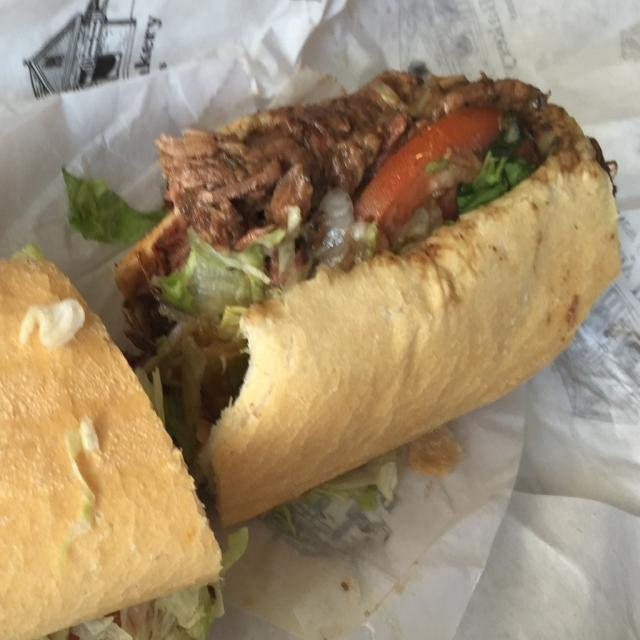Hot dog: (0, 57, 617, 639)
